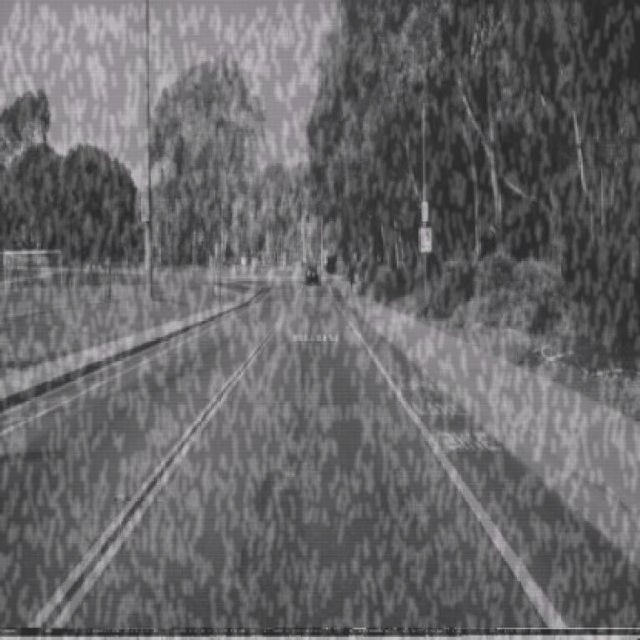speedLimit15: (418, 226, 432, 253)
